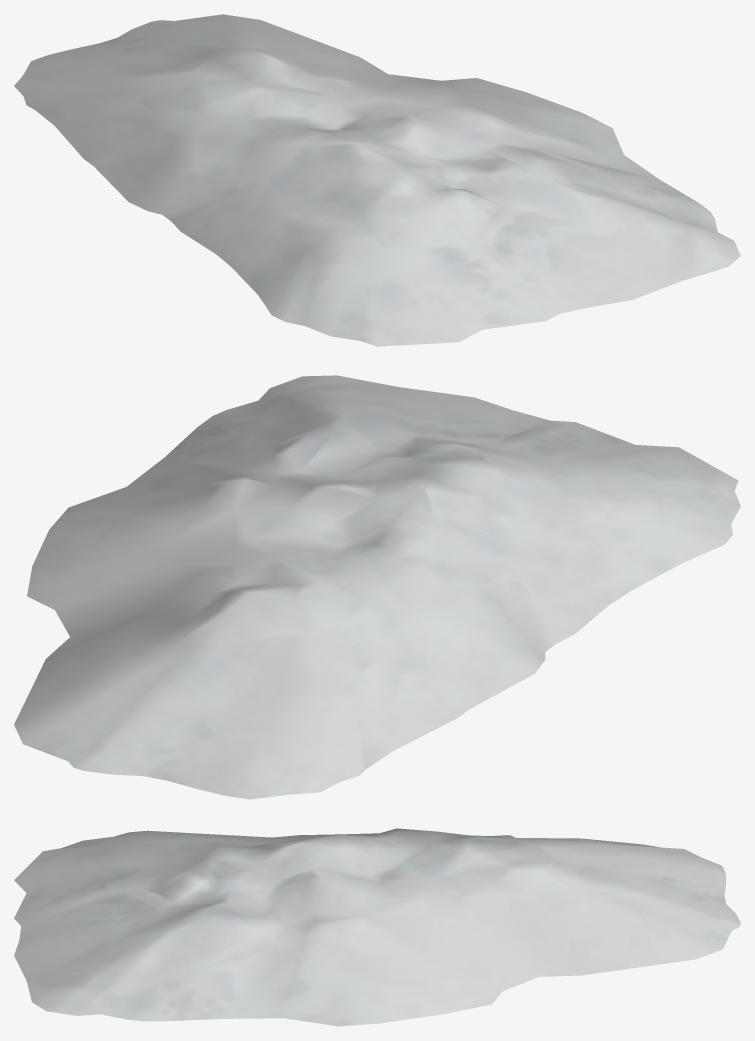
File: snow_mound_a.glb
3 renders of one model, top to bottom at view 1: azimuth 30°, elevation 25°; view 2: azimuth 150°, elevation 25°; view 3: azimuth 270°, elevation 25°, orthographic. The views are drawn at different scales.
Parts seen in each view (by area): view 1: snow_mound_a_LOD0; view 2: snow_mound_a_LOD0; view 3: snow_mound_a_LOD0.
Part boxes in pixels (x1,y1,x2,y2): snow_mound_a_LOD0: (14, 14, 740, 346); snow_mound_a_LOD0: (14, 375, 740, 799); snow_mound_a_LOD0: (14, 828, 740, 1026).
Bounding box in the file's own units: 5.9 × 0.8642 × 9.26.
1 material, 1 textured.
